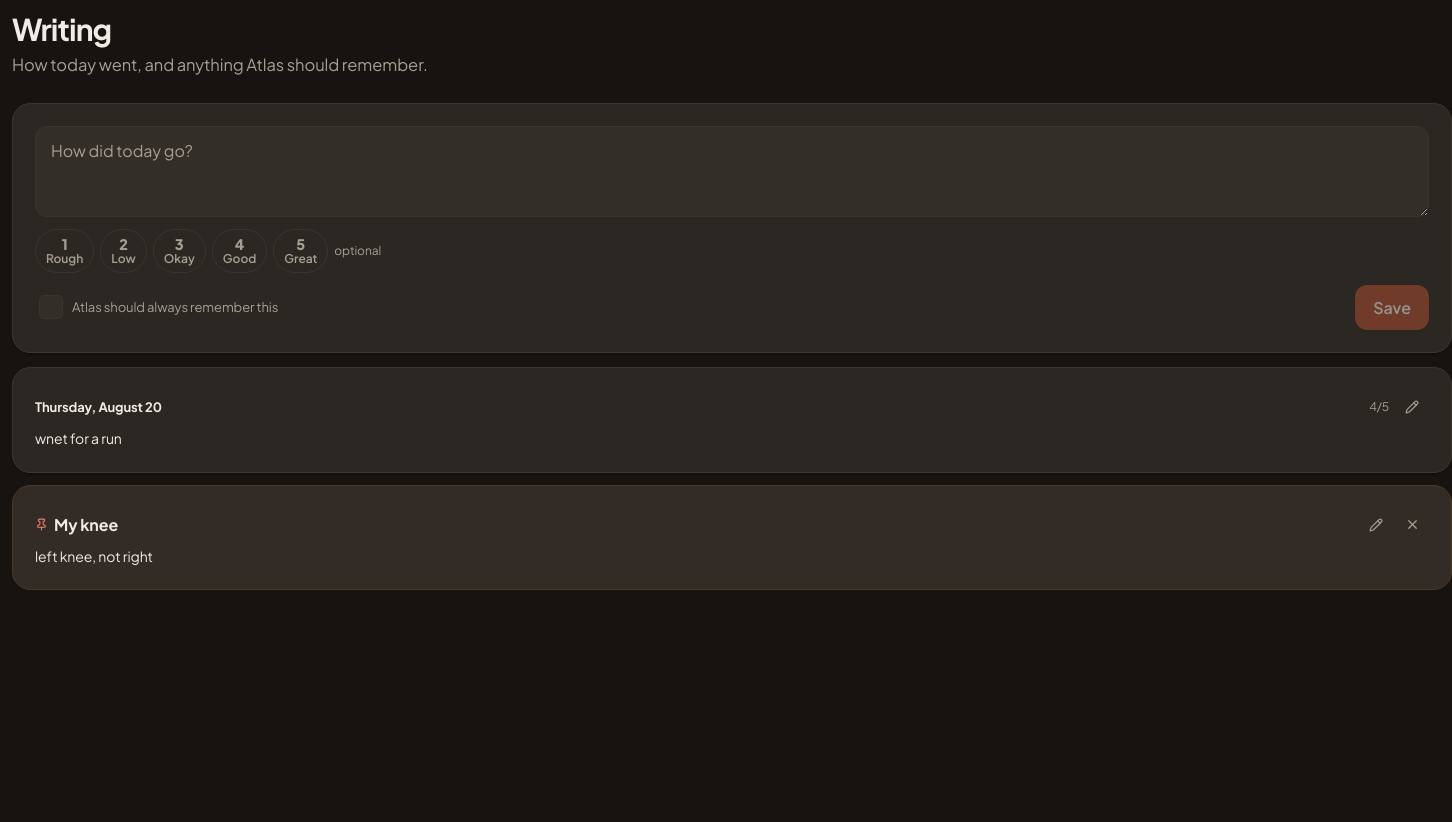
Test: editing what you have written › will not save an entry emptied to nothing
The image size is (1452, 822).
Click the button named "Edit " at coordinates (1412, 407), box [1395,390,1429,424]
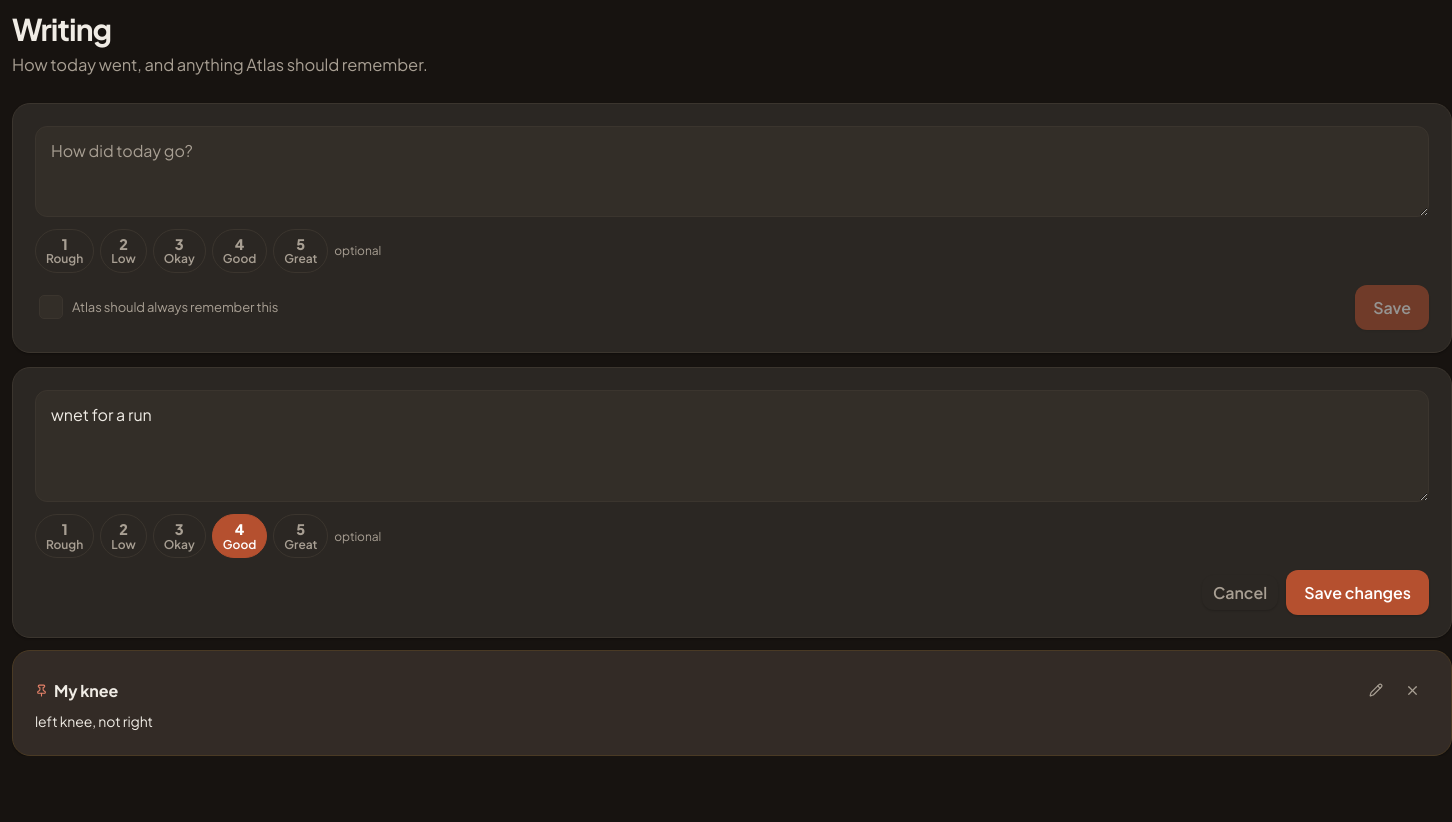
Clear the text box named "Edit " at coordinates (732, 446), box [35,390,1429,502]
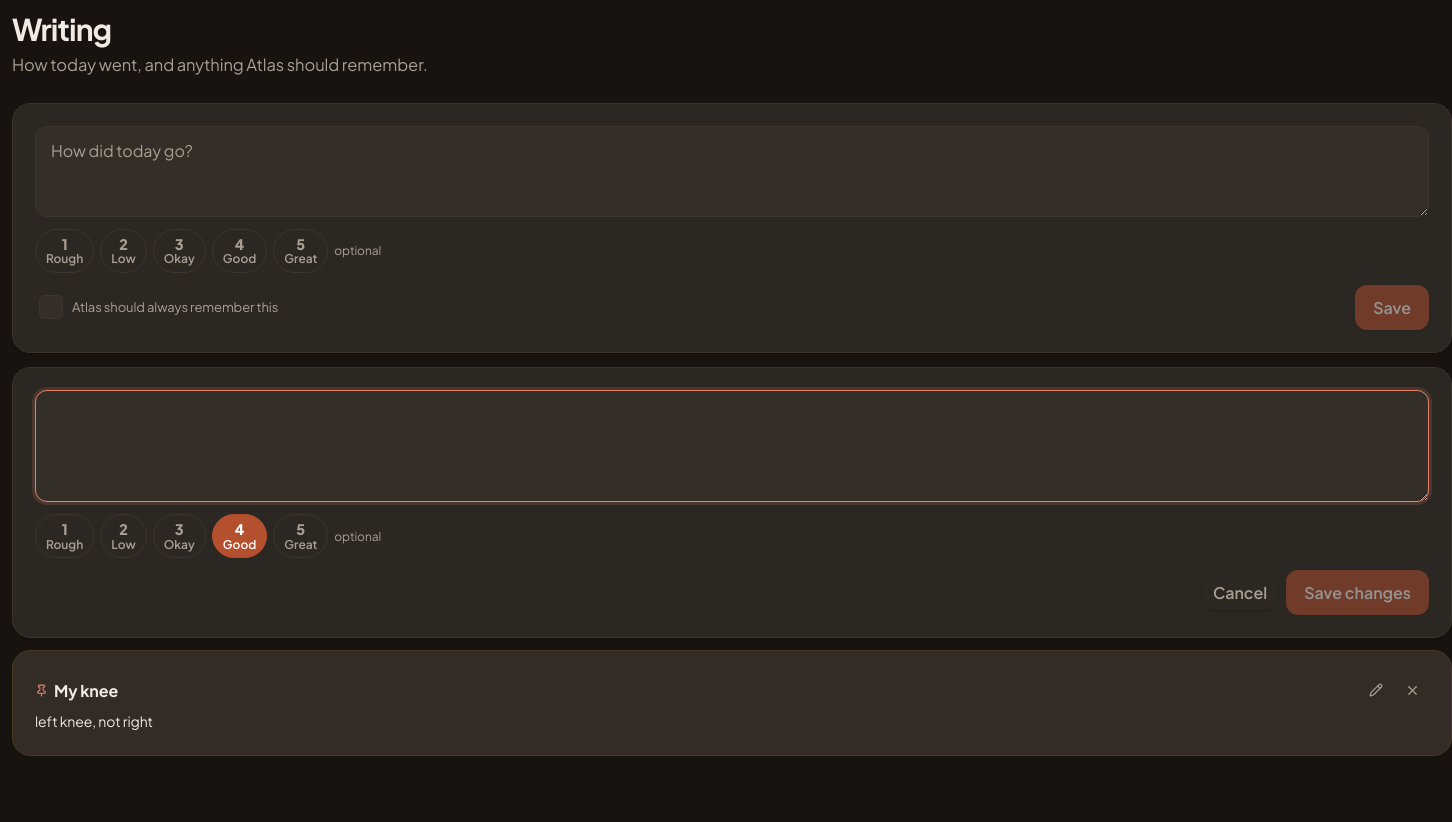
Now the button "Save changes" is disabled, box [1286,570,1429,615]
